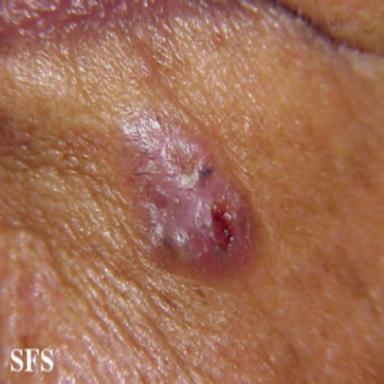basal-cell-carcinoma: (121, 116, 253, 276)
